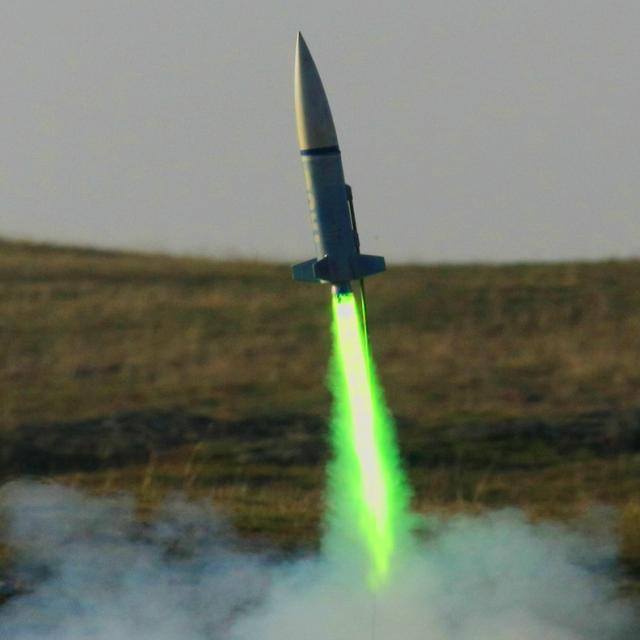rocket: (272, 22, 385, 543)
